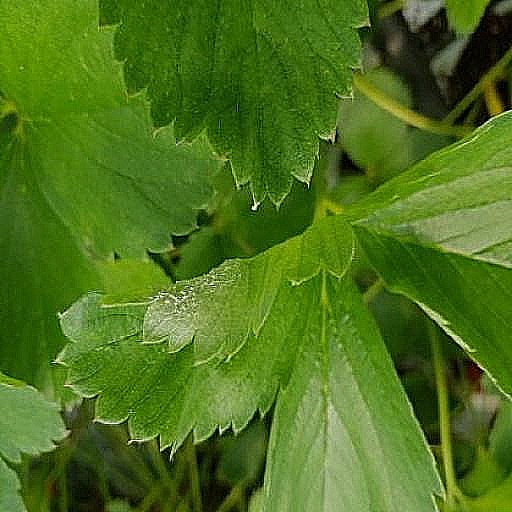Powdery Mildew Leaf: (51, 50, 370, 303)
